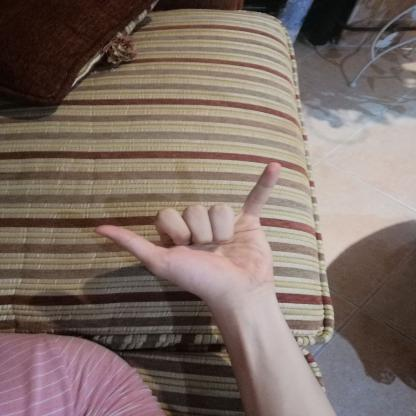YA: (82, 152, 298, 313)
